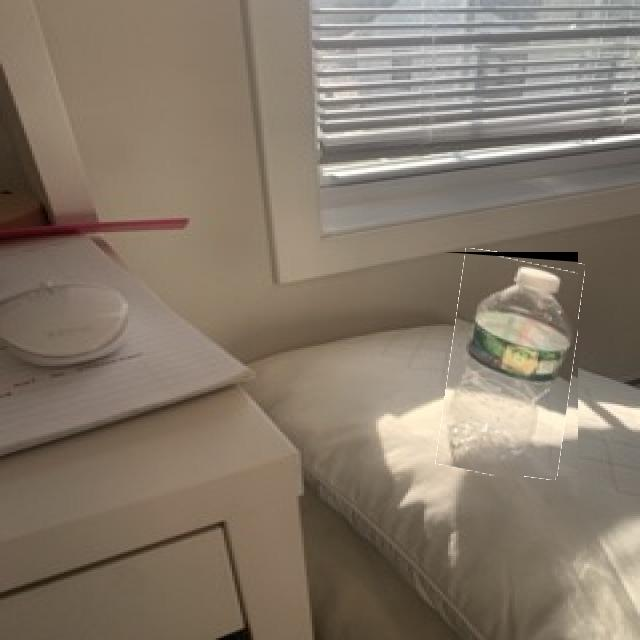water_bottle: (443, 252, 578, 476)
